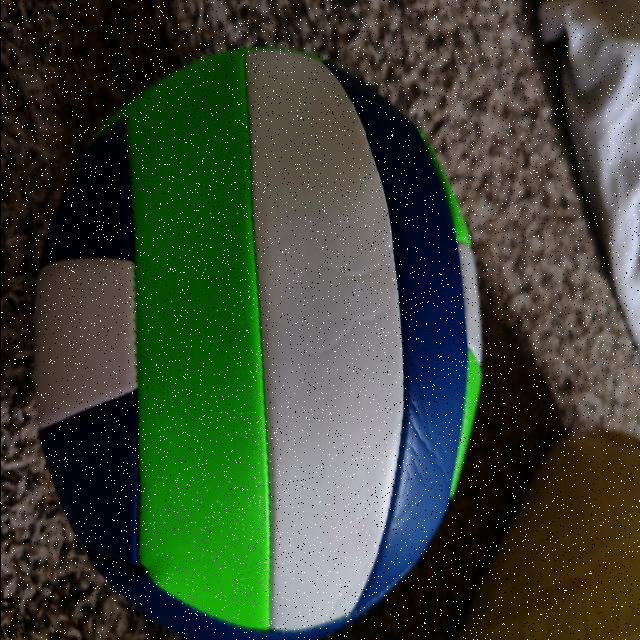ball: (28, 45, 480, 639)
